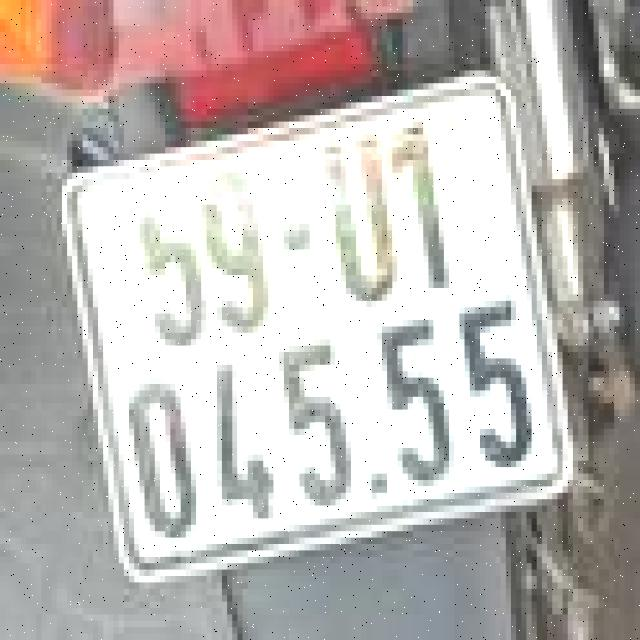0: (119, 374, 201, 554)
1: (395, 116, 457, 294)
4: (206, 352, 279, 531)
5: (369, 304, 457, 496), (462, 298, 544, 477), (281, 339, 359, 512), (129, 176, 201, 349)
9: (206, 166, 279, 333)
U: (312, 128, 395, 307)
